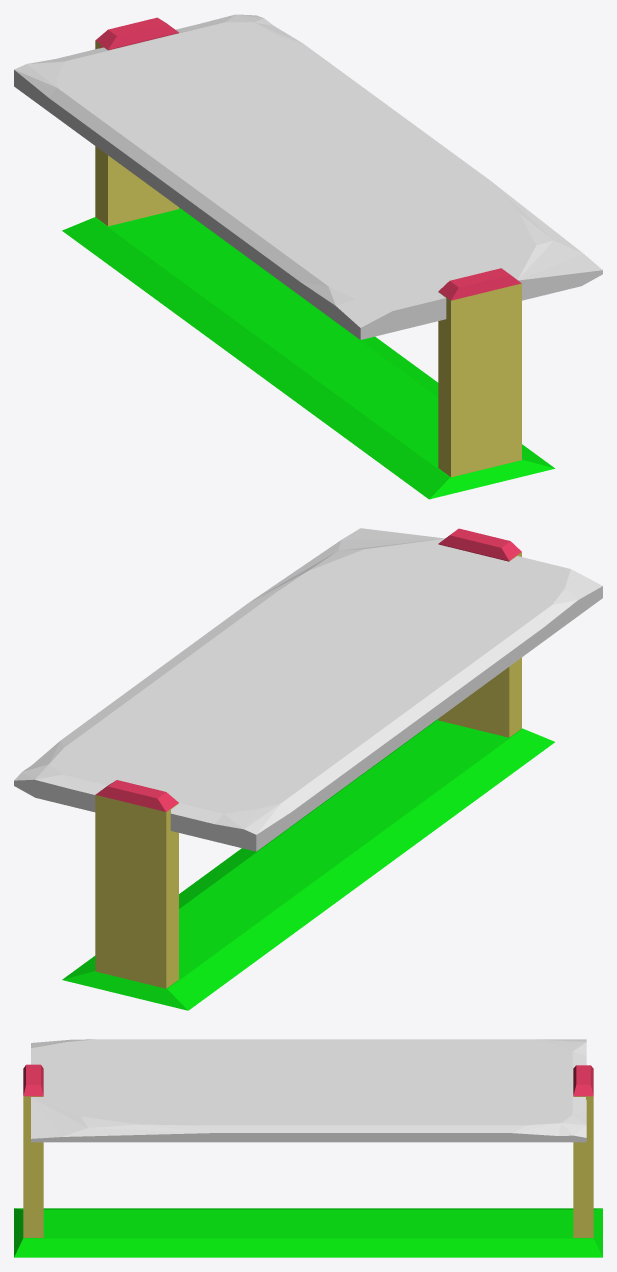
The model's file is Table.fbx.
3 renders of one model, top to bottom at view 1: azimuth 30°, elevation 25°; view 2: azimuth 150°, elevation 25°; view 3: azimuth 270°, elevation 25°, orthographic. The views are drawn at different scales.
Visible parts, largest first — view 1: table top, Table legs; view 2: table top, Table legs; view 3: table top, Table legs.
Part boxes in pixels (x1=…): table top: x1=14, y1=14, x2=602, y2=339; Table legs: x1=62, y1=17, x2=554, y2=499; table top: x1=14, y1=528, x2=602, y2=851; Table legs: x1=62, y1=528, x2=554, y2=1010; table top: x1=31, y1=1039, x2=586, y2=1142; Table legs: x1=14, y1=1064, x2=602, y2=1257.
Bounding box in the file's own units: 1032 × 803 × 2708.
